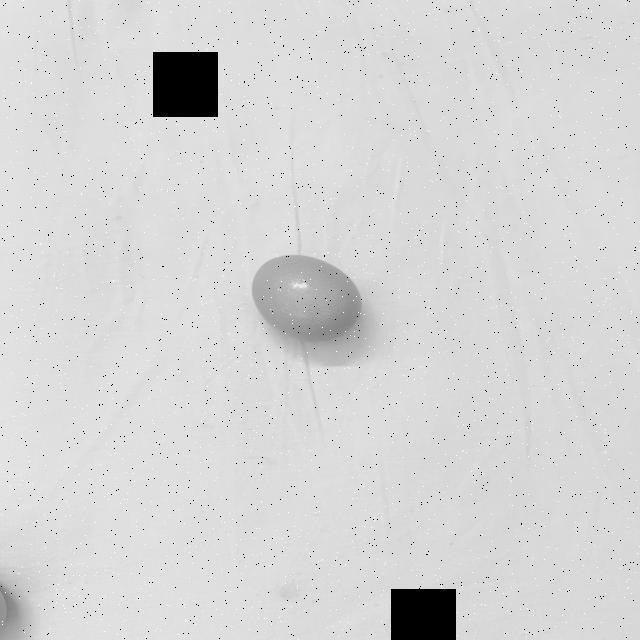egg: (243, 248, 372, 348)
